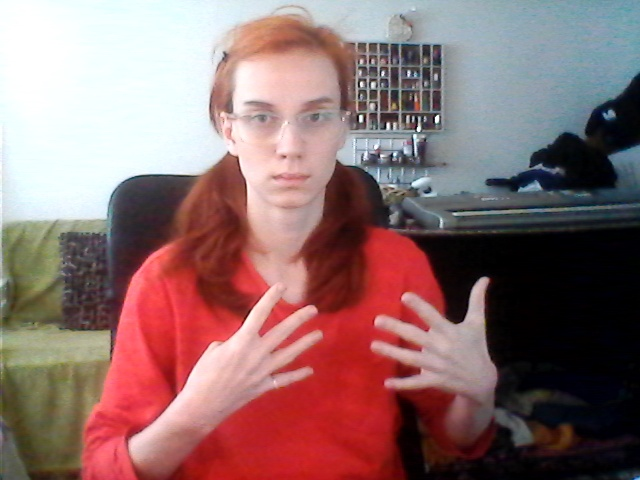devat: (200, 275, 502, 418)
